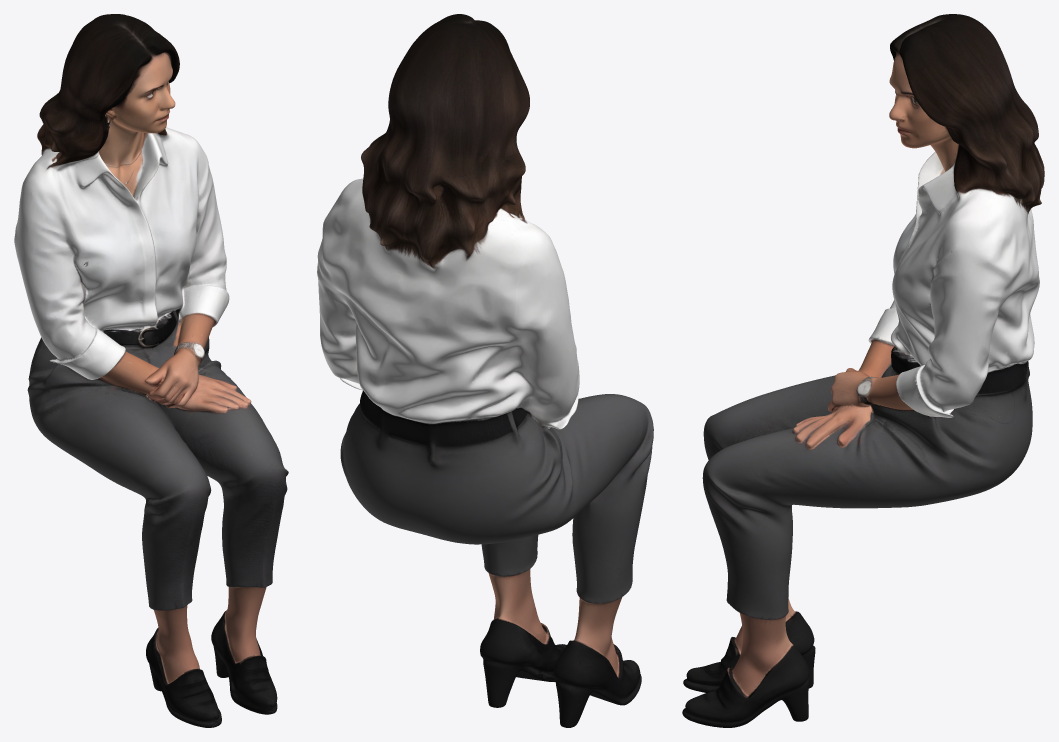
File: corporate_confidence_portrait.glb
3 renders of one model, left to right at view 1: azimuth 30°, elevation 25°; view 2: azimuth 150°, elevation 25°; view 3: azimuth 270°, elevation 25°, orthographic. The views are drawn at different scales.
Visible parts, largest first — view 1: Object_5, Object_6, Object_7; view 2: Object_6, Object_5; view 3: Object_6, Object_5, Object_7.
Boxes of the visible parts, box(x1,y1,x2,y2) form: Object_5: box(50, 28, 288, 727); Object_6: box(14, 14, 226, 455); Object_7: box(34, 35, 229, 435); Object_6: box(317, 14, 597, 544); Object_5: box(464, 15, 653, 727); Object_6: box(869, 14, 1044, 508); Object_5: box(682, 27, 931, 727); Object_7: box(892, 29, 938, 436).
Bounding box in the file's own units: 0.6354 × 1.9 × 0.9127.
1 material, 1 textured.
